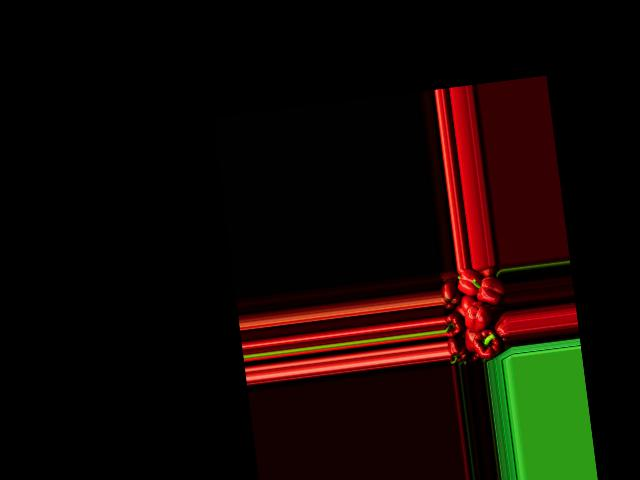bell_pepper: (447, 337, 468, 364)
